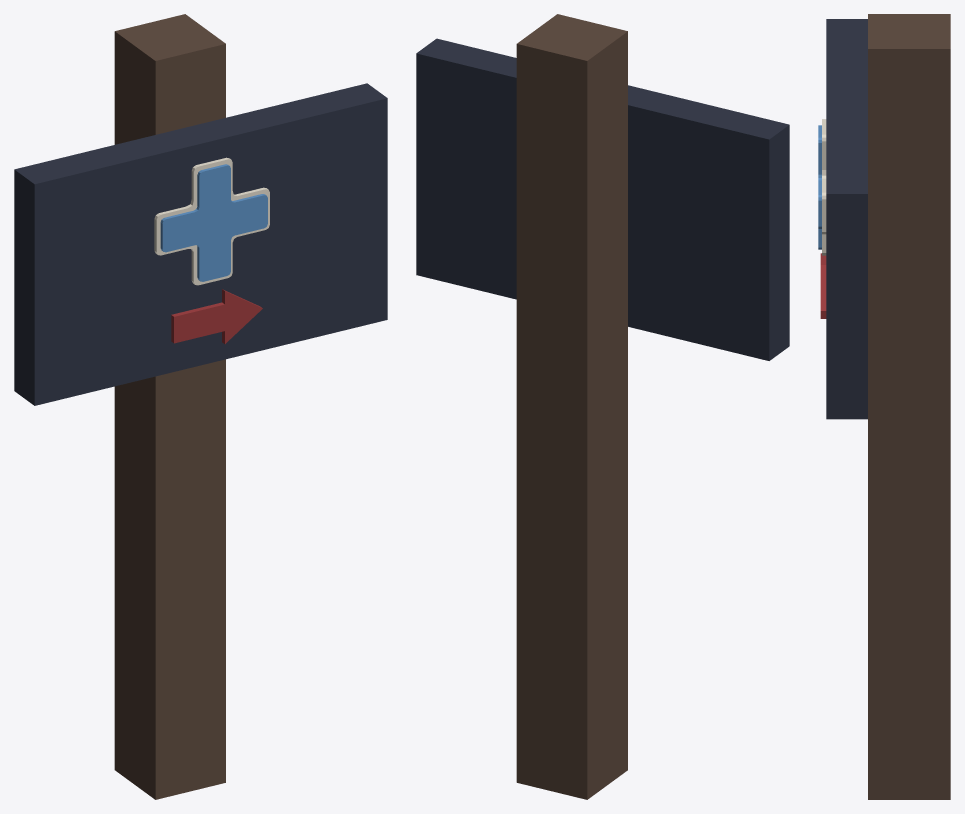
Rendered from pharmacy_signRight.fbx.
3 renders of one model, left to right at view 1: azimuth 30°, elevation 25°; view 2: azimuth 150°, elevation 25°; view 3: azimuth 270°, elevation 25°, orthographic.
Parts seen in each view (by area): view 1: pharmacy_signRight; view 2: pharmacy_signRight; view 3: pharmacy_signRight.
Boxes of the visible parts, x1=… form: pharmacy_signRight: x1=14, y1=14, x2=387, y2=799; pharmacy_signRight: x1=416, y1=14, x2=789, y2=799; pharmacy_signRight: x1=818, y1=14, x2=950, y2=799.
Bounding box in the file's own units: 1 × 2 × 0.3199.
